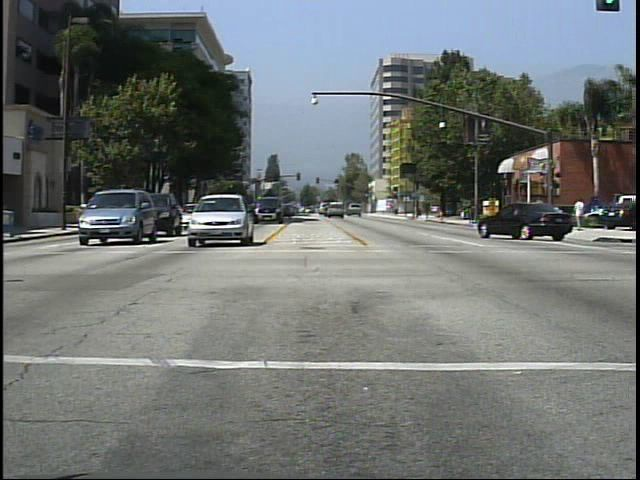person: (531, 192, 549, 231), (575, 195, 587, 220)
